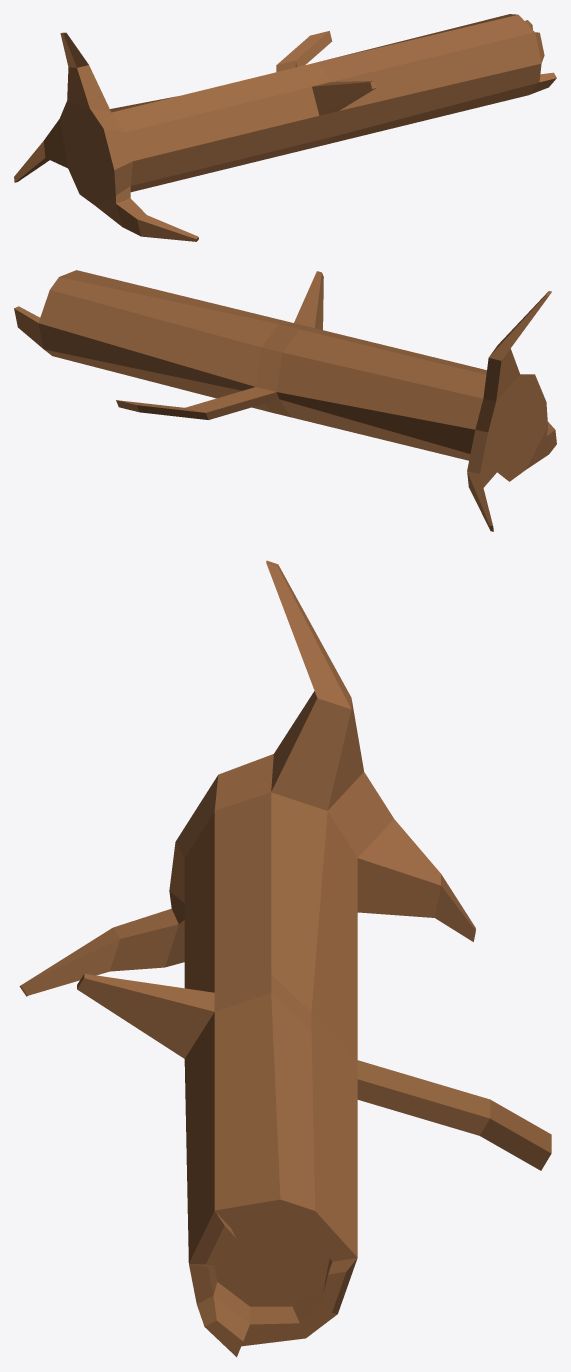
Rendered from Log3.fbx.
3 renders of one model, top to bottom at view 1: azimuth 30°, elevation 25°; view 2: azimuth 150°, elevation 25°; view 3: azimuth 270°, elevation 25°, orthographic. The views are drawn at different scales.
Parts seen in each view (by area): view 1: Cylinder.004; view 2: Cylinder.004; view 3: Cylinder.004.
Part boxes in pixels (<box>): Cylinder.004: <box>14,14,556,241</box>; Cylinder.004: <box>14,270,556,531</box>; Cylinder.004: <box>19,560,551,1357</box>.
Size of the model in its own units: 725 by 269 by 345.
